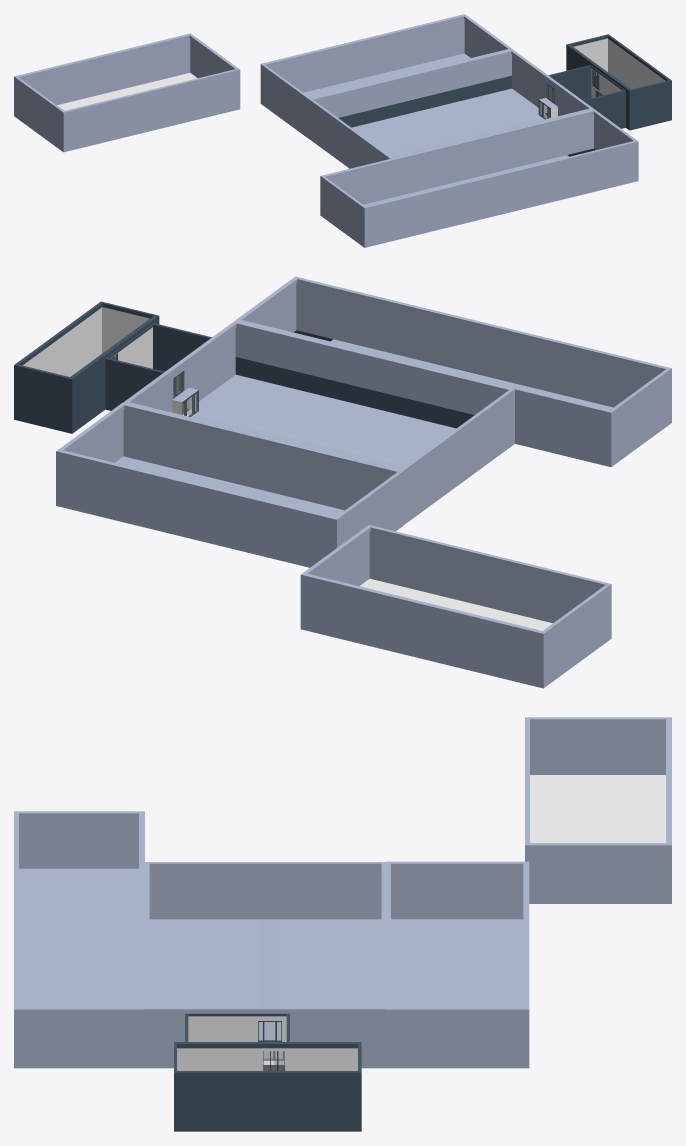
The model's file is walls.glb.
3 renders of one model, top to bottom at view 1: azimuth 30°, elevation 25°; view 2: azimuth 150°, elevation 25°; view 3: azimuth 270°, elevation 25°, orthographic. The views are drawn at different scales.
Parts seen in each view (by area): view 1: Kunststoff.001, fertigung, montage.001, montage, foyer, Cafeteria; view 2: fertigung, montage, montage.001, Kunststoff.001, foyer, Cafeteria; view 3: fertigung, Kunststoff.001, montage, montage.001, foyer, Cafeteria.
Part boxes in pixels (x1,y1,x2,y2): Kunststoff.001: (320, 109, 638, 247); fertigung: (309, 49, 593, 168); montage.001: (14, 33, 240, 152); montage: (260, 14, 511, 138); foyer: (566, 34, 671, 130); Cafeteria: (545, 65, 625, 128); fertigung: (122, 321, 514, 524); montage: (56, 403, 403, 567); montage.001: (300, 525, 611, 688); Kunststoff.001: (235, 276, 671, 466); foyer: (14, 301, 159, 433); Cafeteria: (105, 323, 211, 414); fertigung: (145, 862, 387, 1068); Kunststoff.001: (14, 811, 144, 1068); montage: (386, 861, 529, 1068); montage.001: (525, 717, 671, 903); foyer: (174, 1042, 361, 1131); Cafeteria: (185, 1013, 289, 1070).
Bounding box in the file's own units: 86.23 × 6.79 × 67.69.
